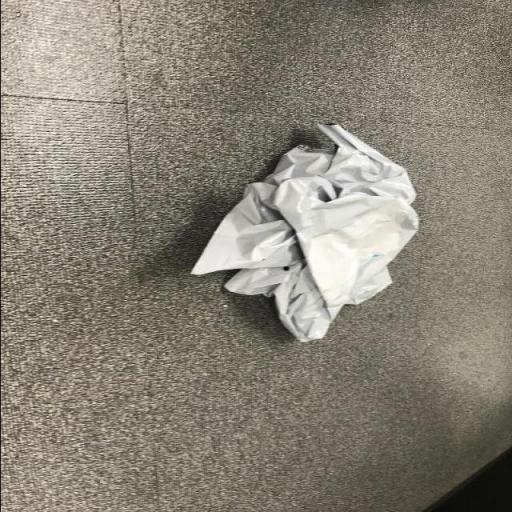plastic-bag: (190, 118, 420, 348)
